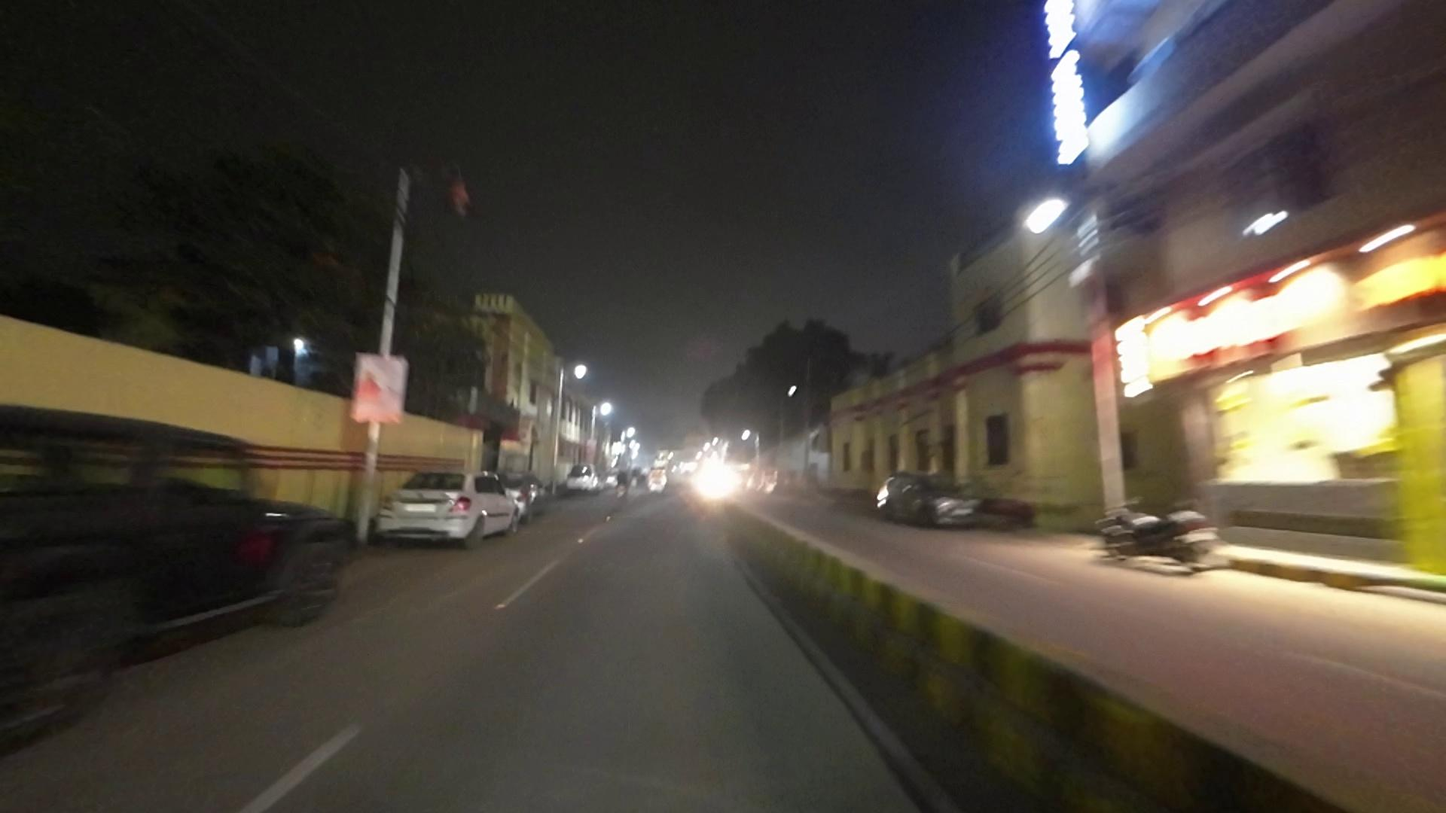streetlight: (438, 162, 471, 218)
